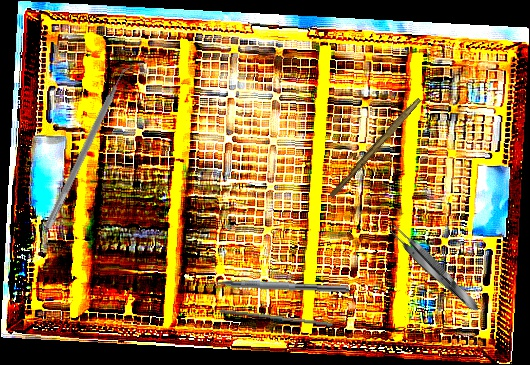Chopper: (199, 270, 350, 293)
Pusher: (218, 309, 334, 327)
Scalpel Handle: (328, 94, 422, 201)
Spatula Surgical: (44, 61, 136, 233)
Tissue Forceps: (384, 220, 484, 317)
